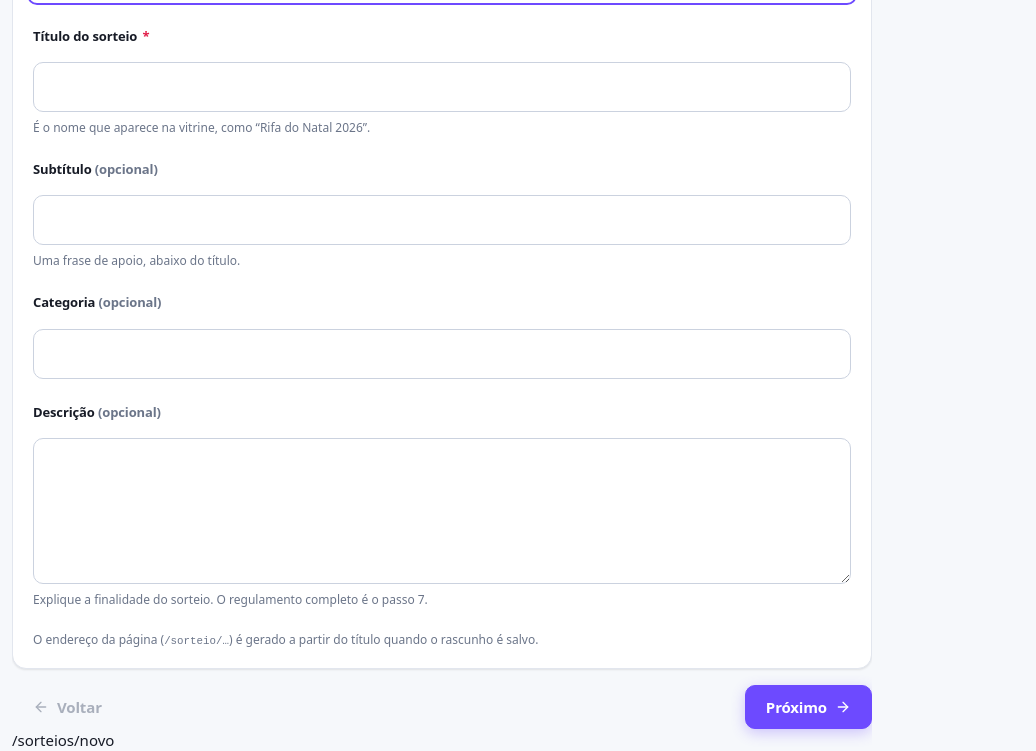
Test: passos › erros de um passo so aparecem depois de sair dele, e o indicador marca a pendencia
(page scrolled)
Expected: the text "pelo menos 3 caracteres" is not shown
What coordinates should you click on to do the following:
click the button "Próximo"
I would click on:
 (808, 707)
Its box is [745, 685, 872, 729].
(page scrolled)
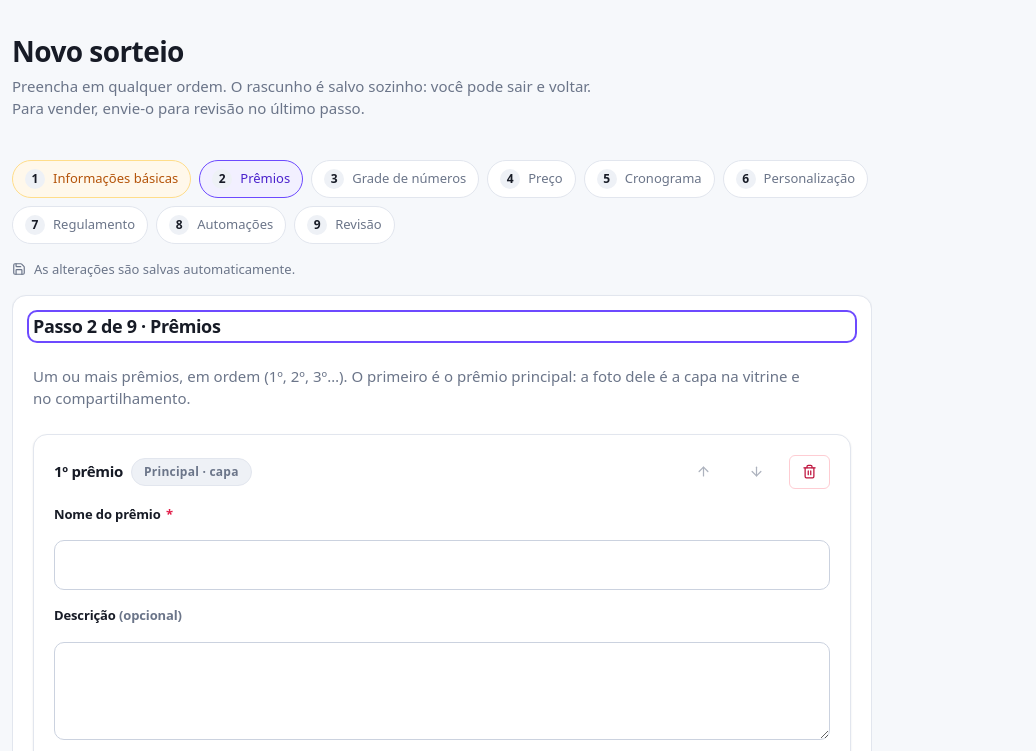
What coordinates should you click on to do the following:
click the button "1 Informações básicas"
I would click on:
 (102, 179)
Its box is [12, 160, 191, 198].
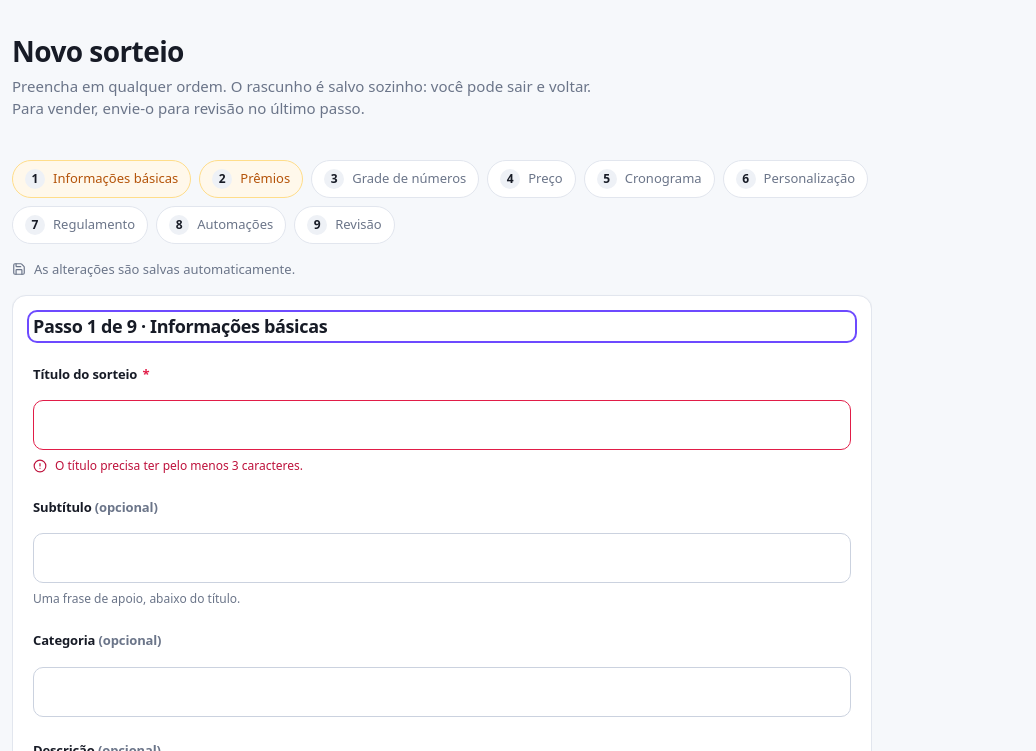
Expected: the text "O título precisa ter pelo menos 3 caracteres." is shown, [33, 457, 303, 474]
